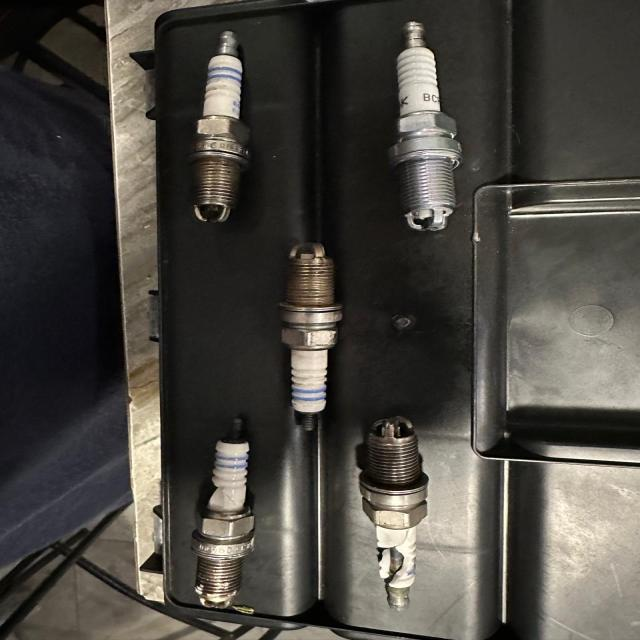damaged_spark-plug: (187, 414, 260, 605), (355, 416, 425, 612)
spark-plug: (387, 18, 477, 232), (195, 22, 265, 219), (285, 247, 351, 440)
